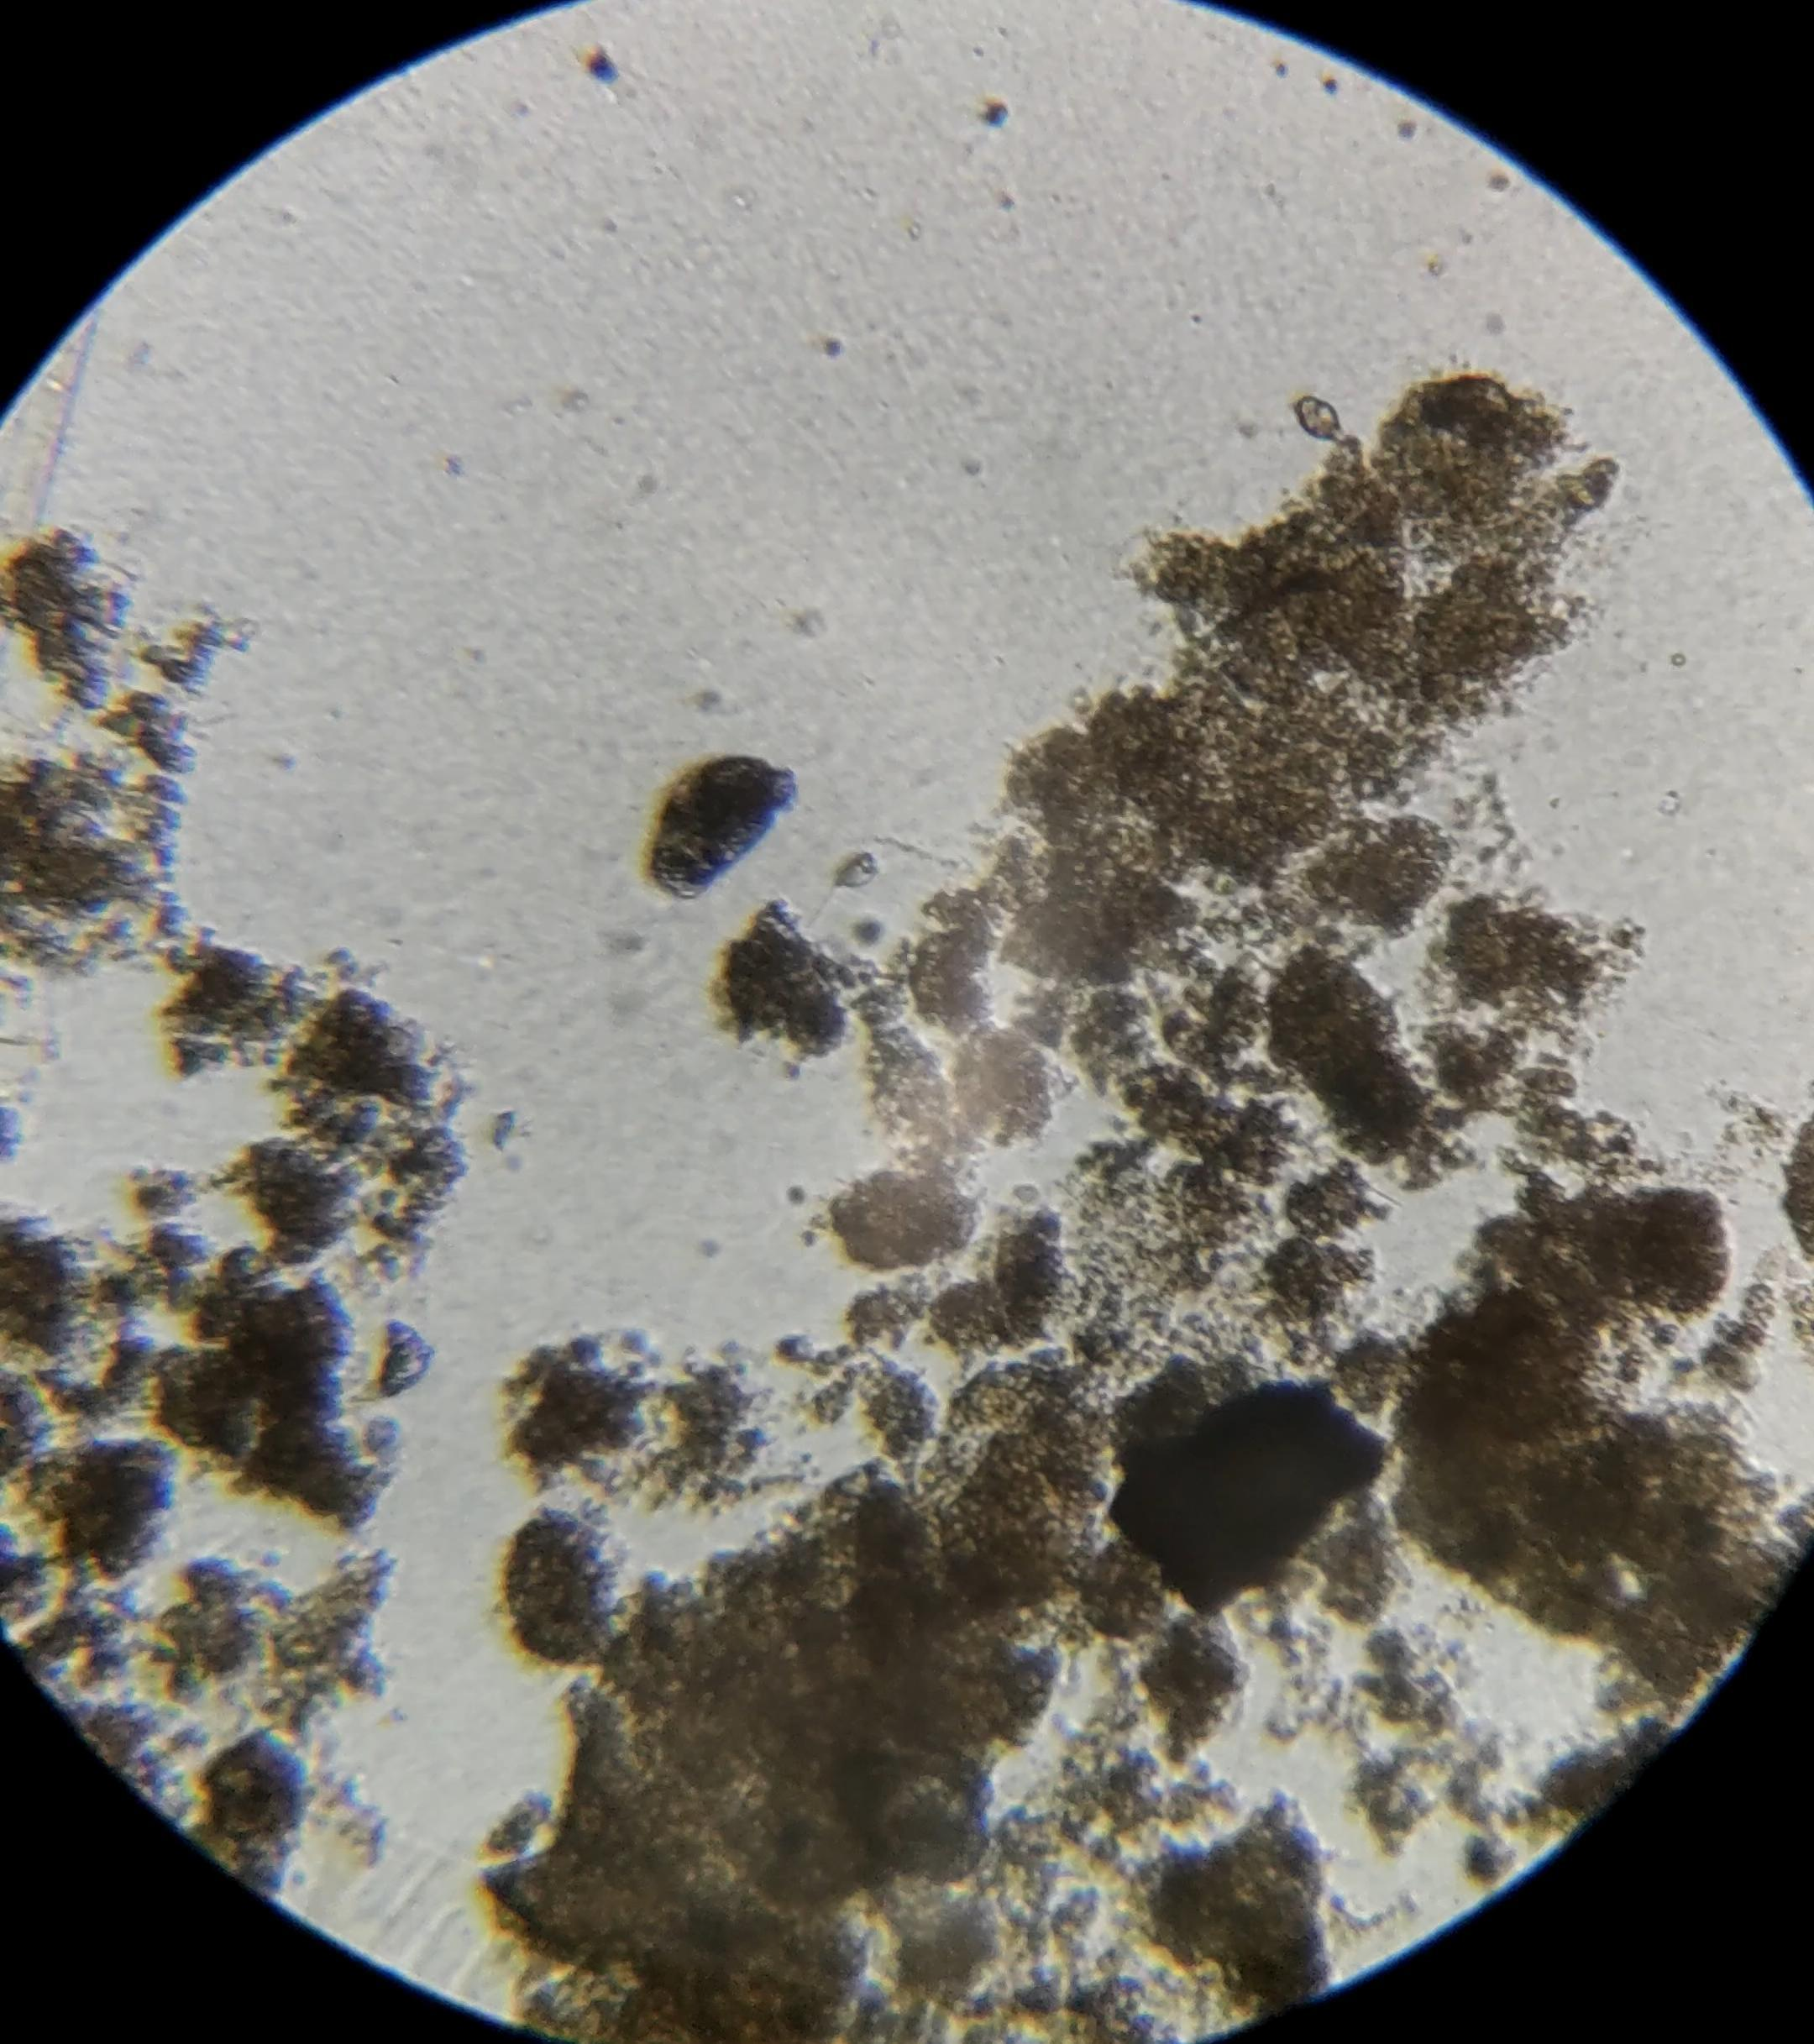Mo: (835, 1750, 1093, 1881), (651, 755, 798, 902)
